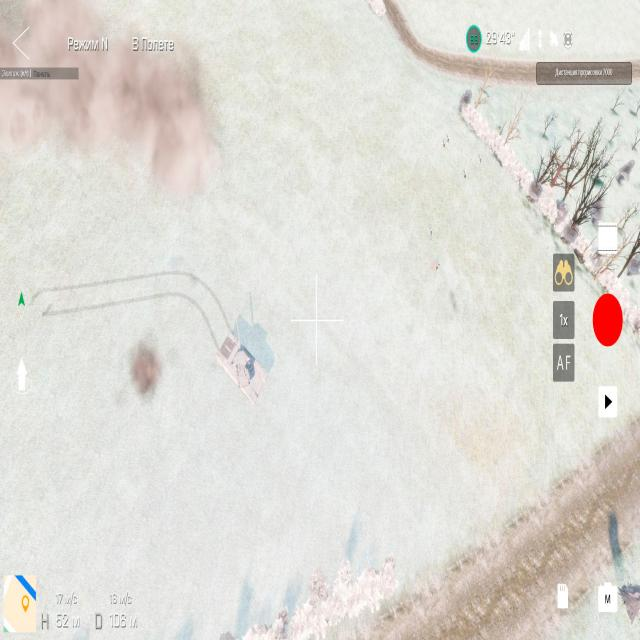infantry: (437, 128, 456, 166), (461, 165, 474, 201), (420, 222, 436, 242), (430, 255, 444, 276), (475, 149, 485, 173)
vehicle: (211, 327, 274, 419)
